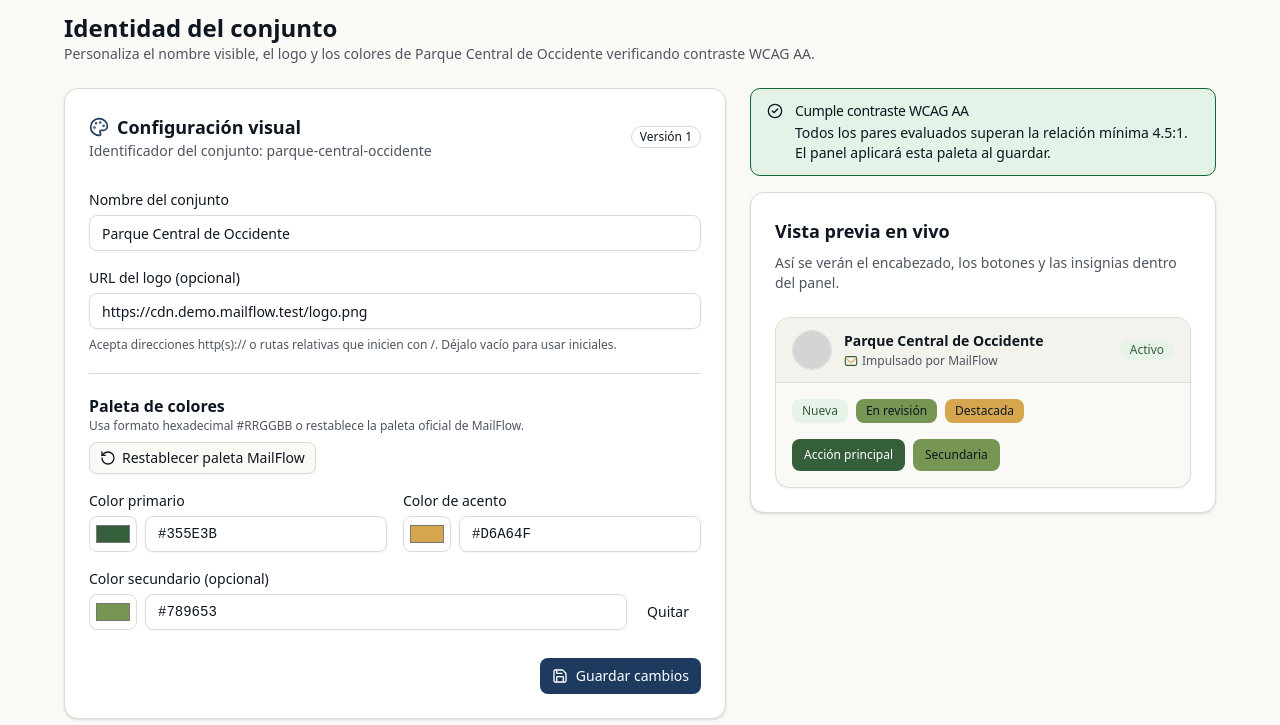
IdentidadPage › ante 422 del servidor muestra mensajeDeError sin cerrar ni perder formulario
The width and height of the screenshot is (1280, 725).
Replace the text in the field labelled "Nombre del conjunto" with "Nombre Editado": [395, 233] box top-left (89, 215), bottom-right (701, 251)
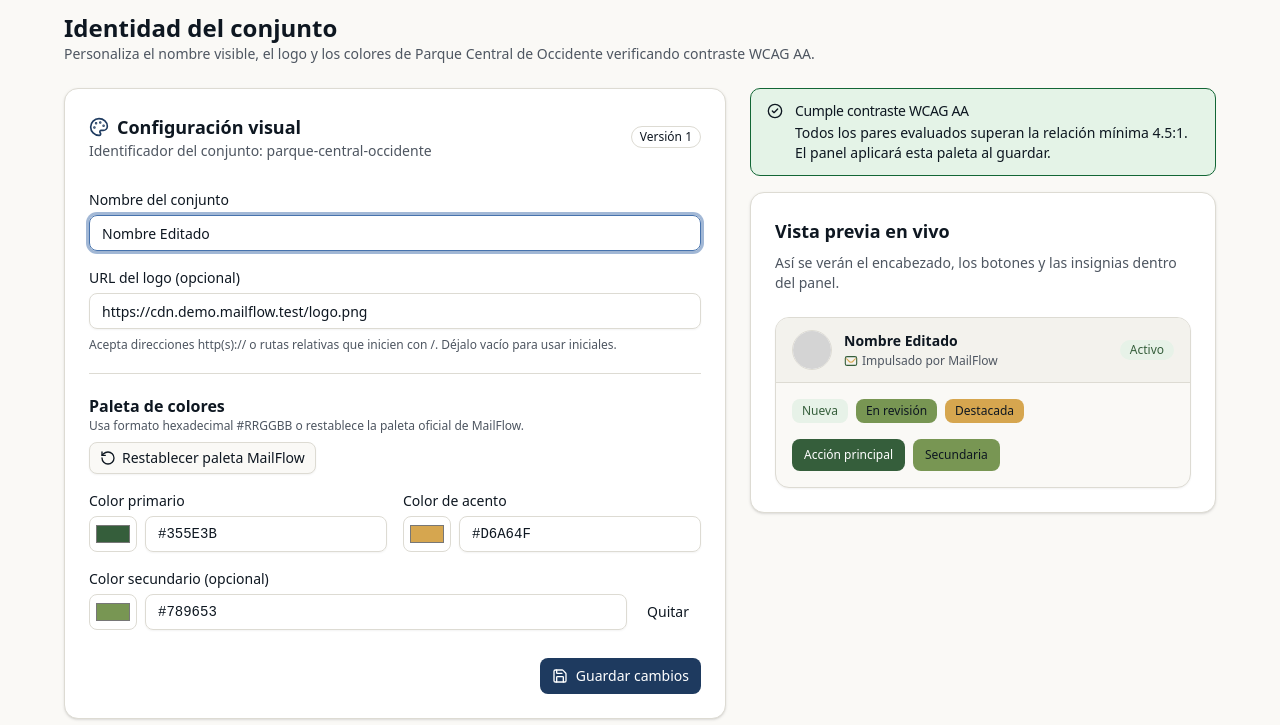
Click the button "Guardar cambios": [620, 676] box top-left (540, 658), bottom-right (701, 694)
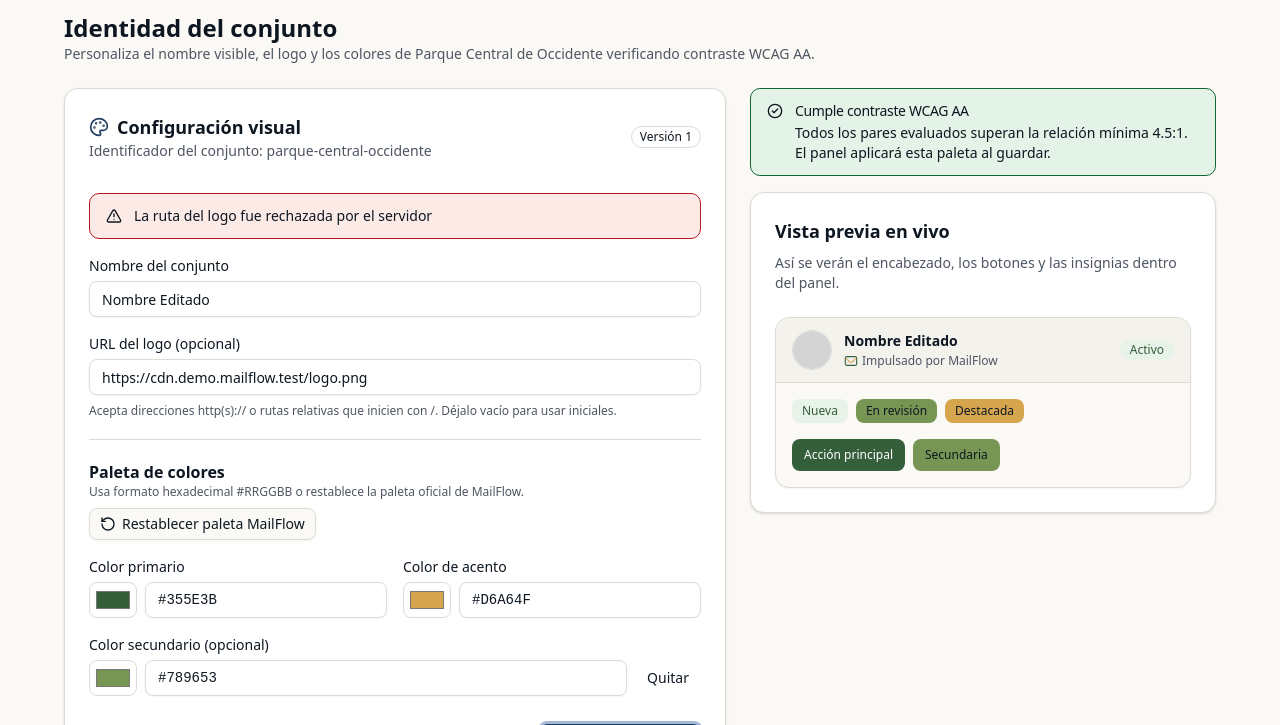
Expected: the text "La ruta del logo fue rechazada por el servidor" is shown, top-left (134, 206), bottom-right (432, 225)
